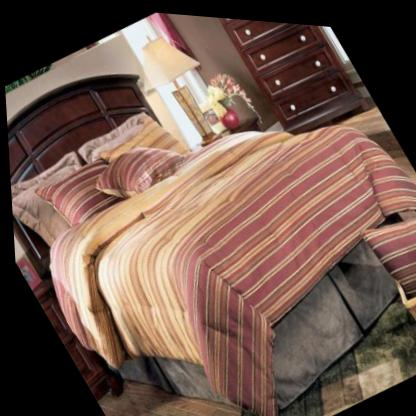Bed: (6, 71, 416, 416)
